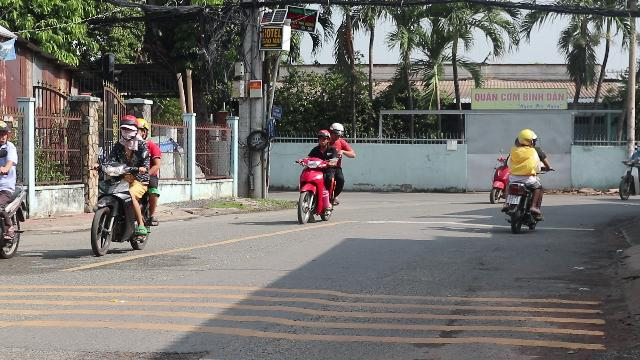helmet: (118, 115, 138, 141), (515, 128, 535, 148), (135, 117, 149, 139), (329, 122, 345, 136), (316, 130, 328, 144)
licenseplate: (506, 196, 520, 204)
motorcyclist: (88, 114, 162, 256), (293, 122, 355, 224), (500, 128, 546, 232)
